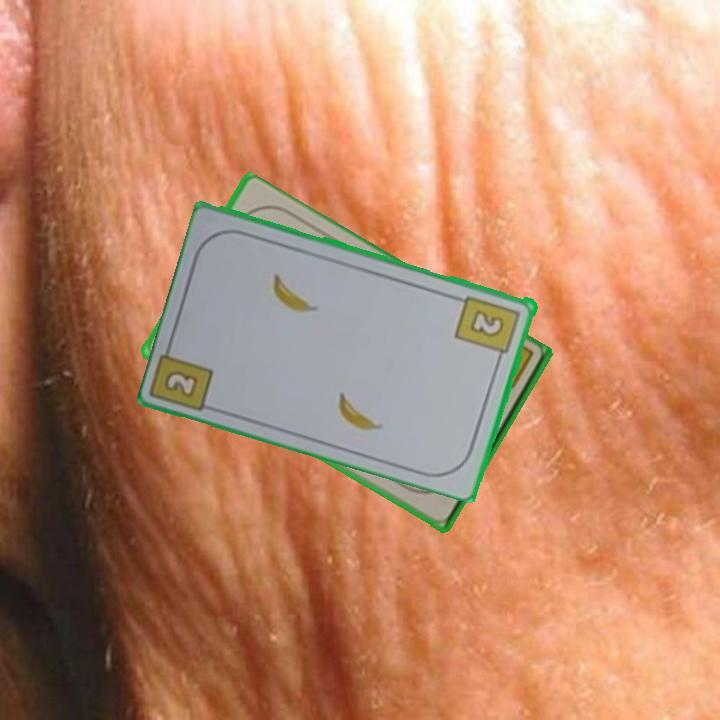2b: (452, 292, 524, 365), (164, 369, 198, 397)
